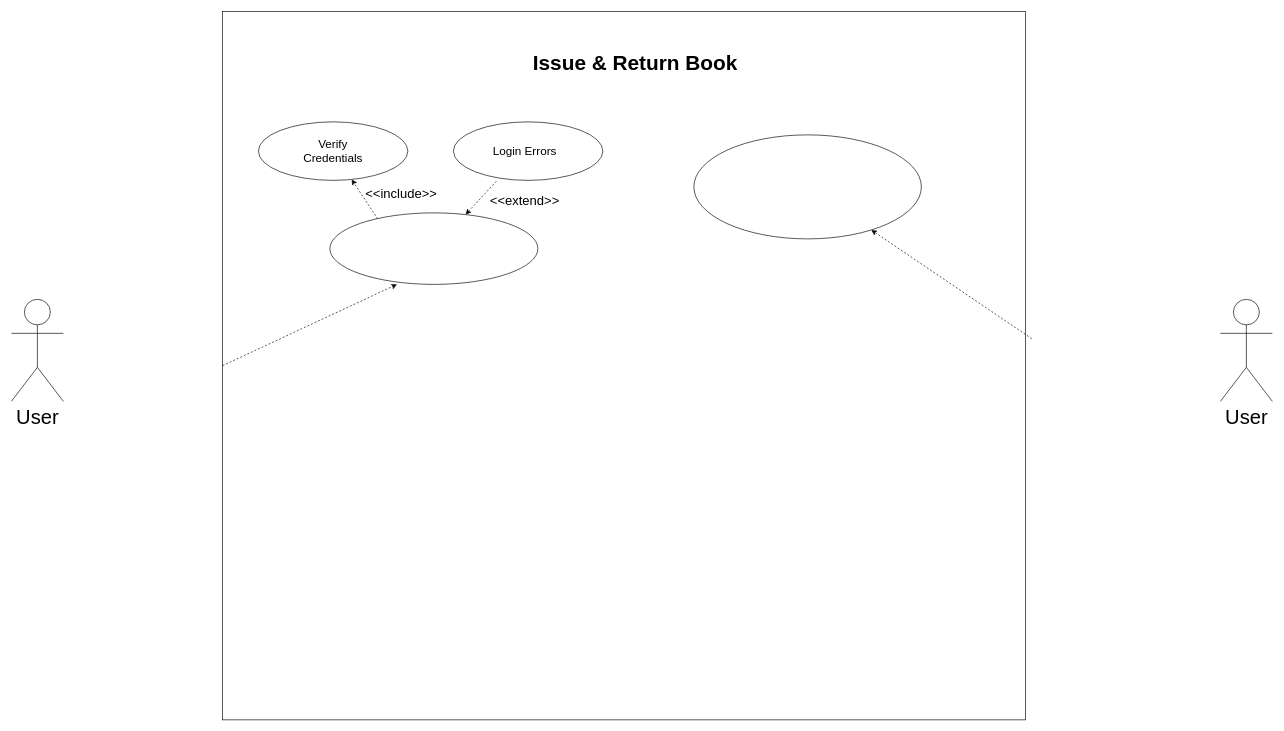
Some shapes in this 1284 by 731 pixel diagram are drawn without their labels. Each missing label, with the box of its shape:
Add Book Details: (693, 134, 921, 239)
Request Book: (329, 212, 538, 284)
